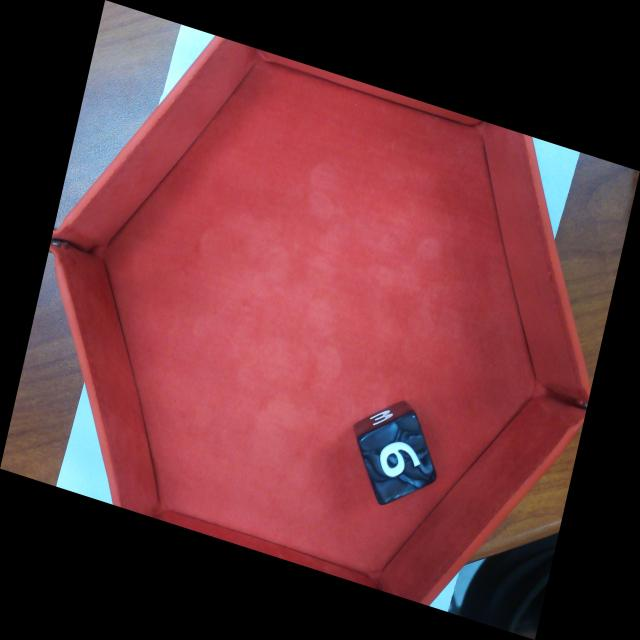dice: (362, 412, 440, 503)
